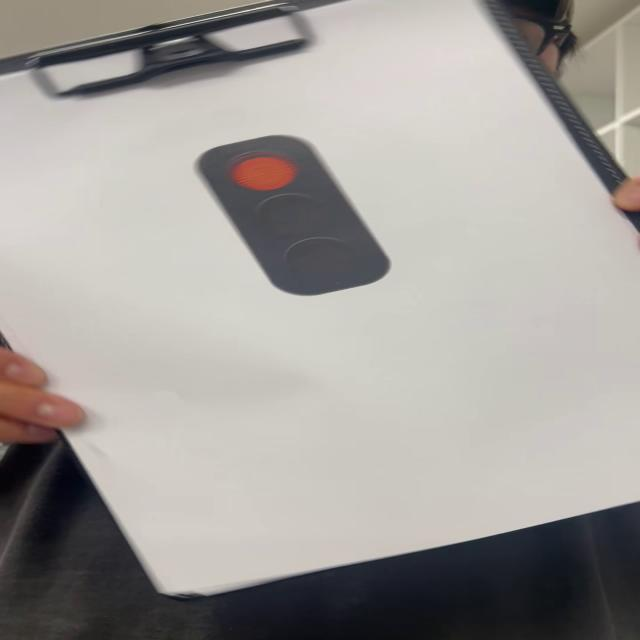red: (197, 132, 397, 300)
